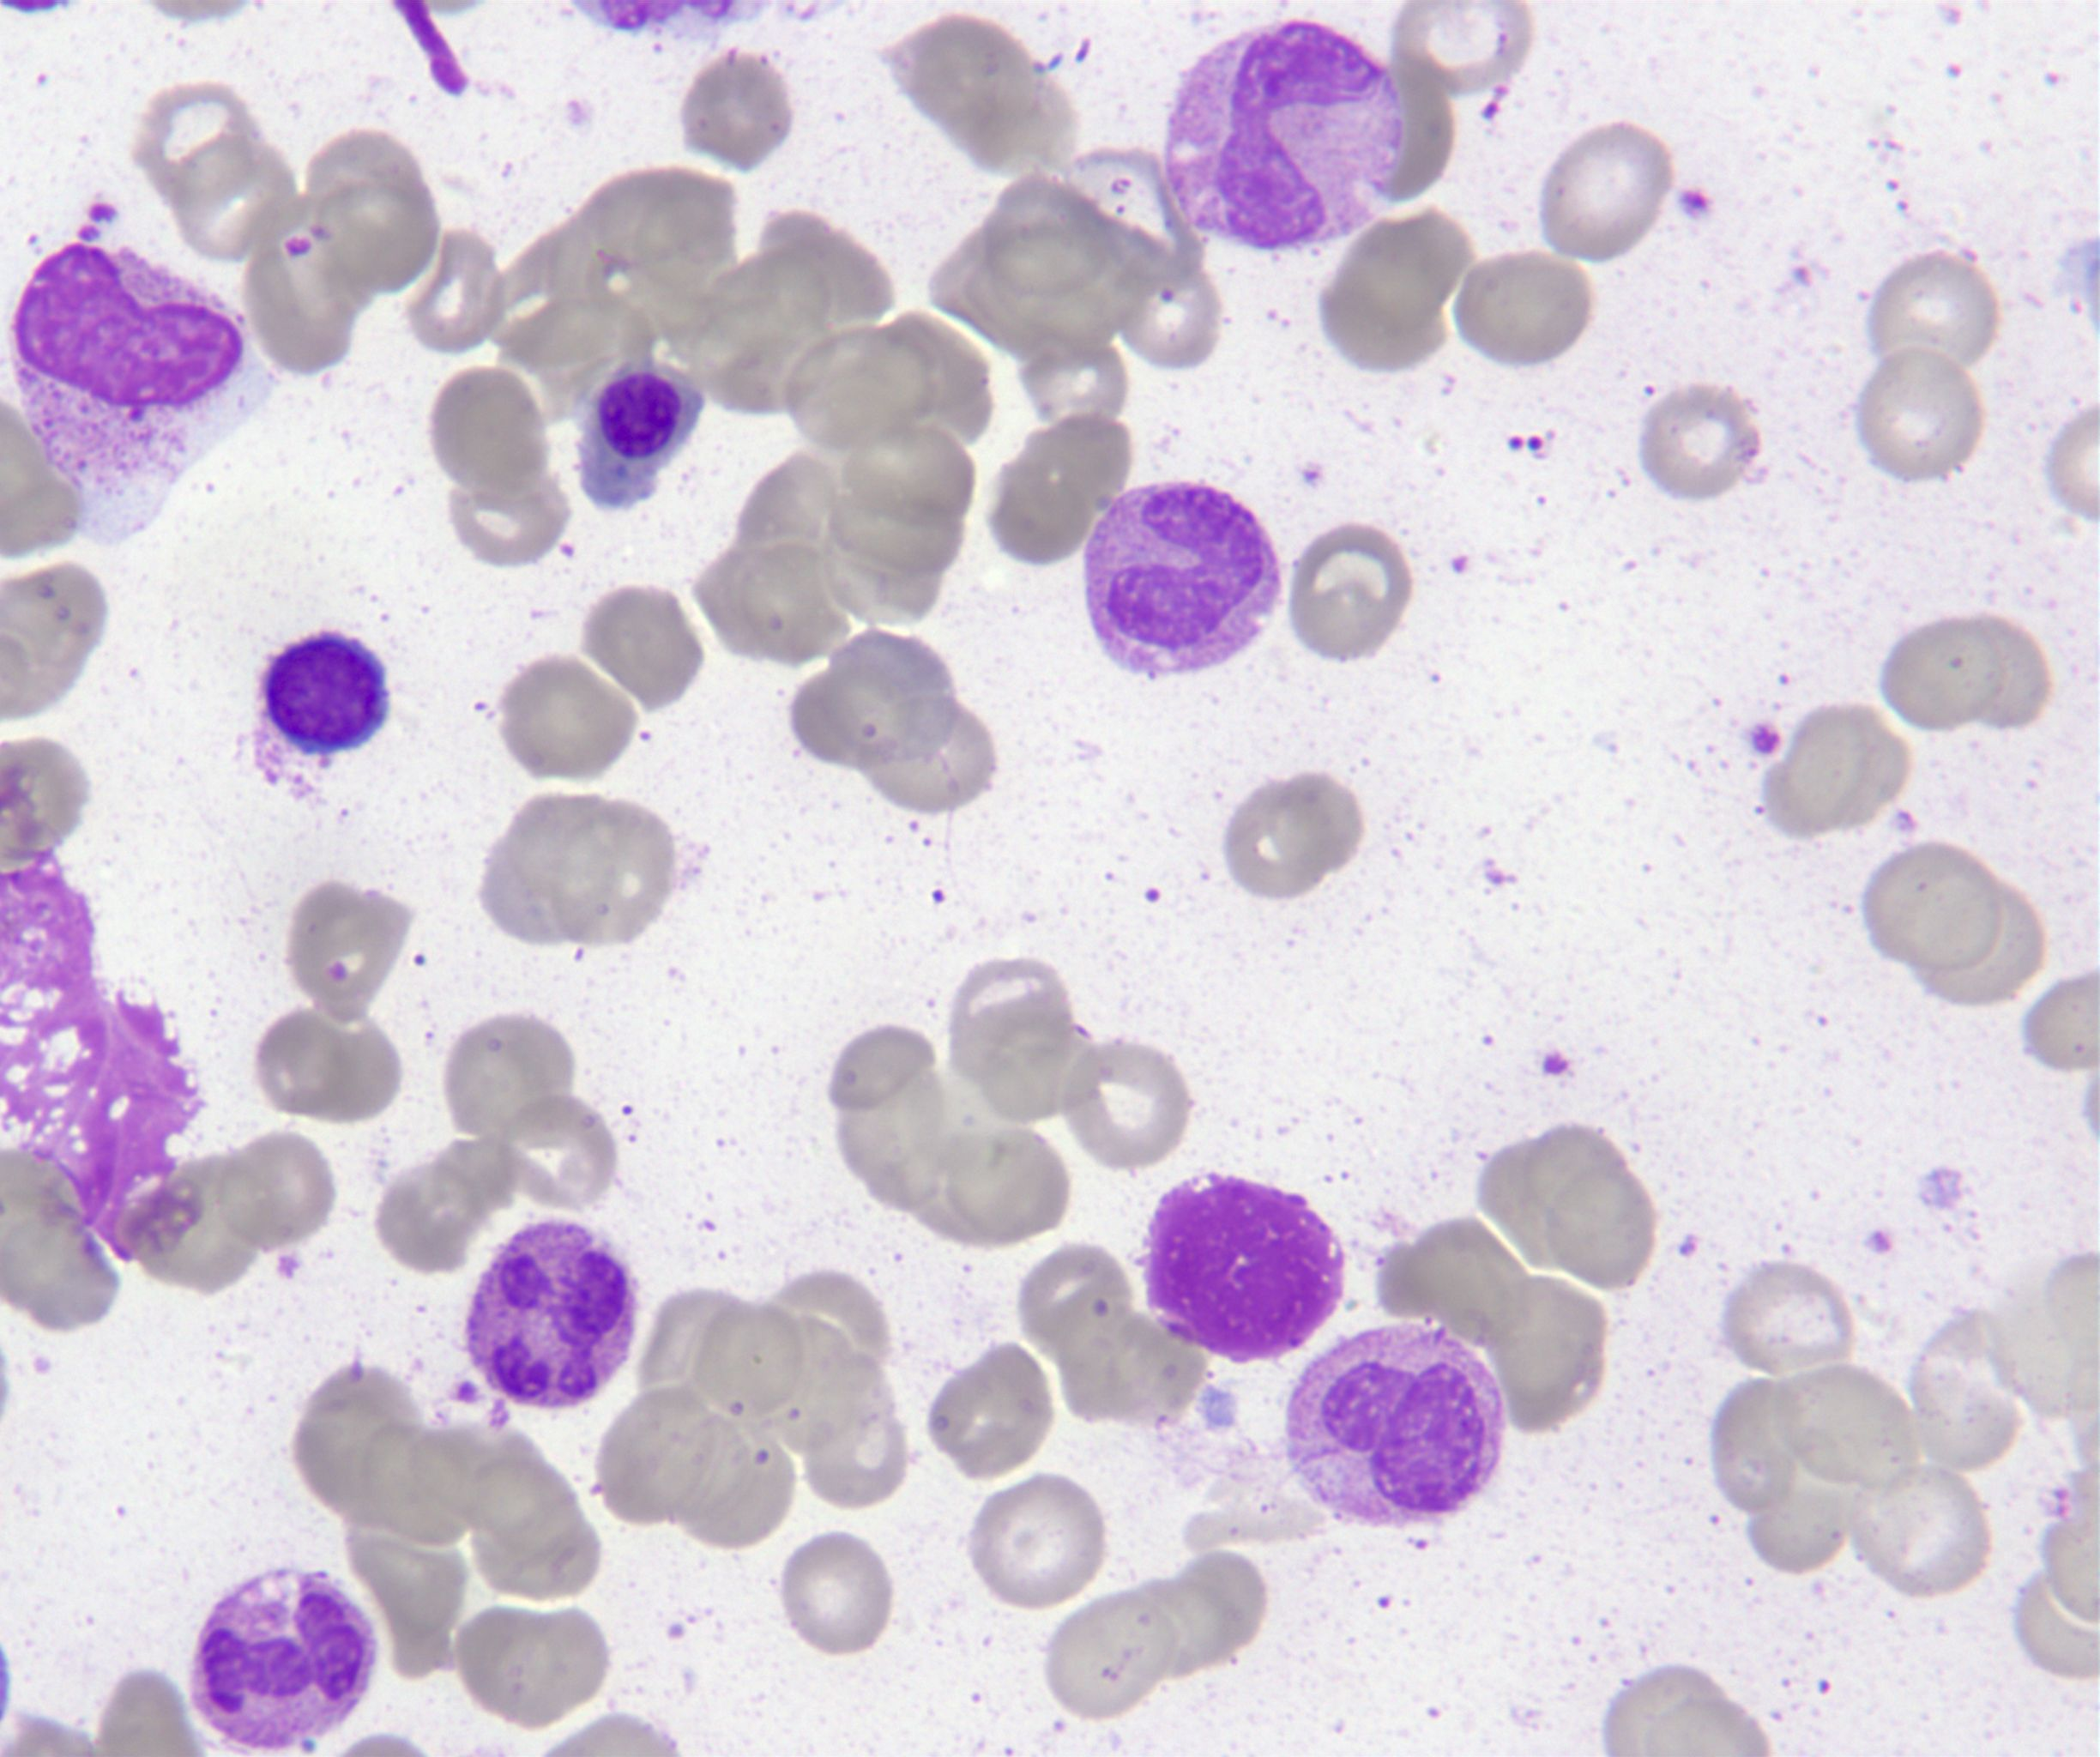24: (577, 359, 705, 511)
32: (267, 632, 389, 754)
5: (1163, 21, 1404, 250), (1087, 483, 1280, 675)
6: (1285, 1326, 1505, 1530), (190, 1569, 377, 1750), (467, 1225, 633, 1410)
x: (10, 243, 274, 541), (1142, 1176, 1341, 1364)
